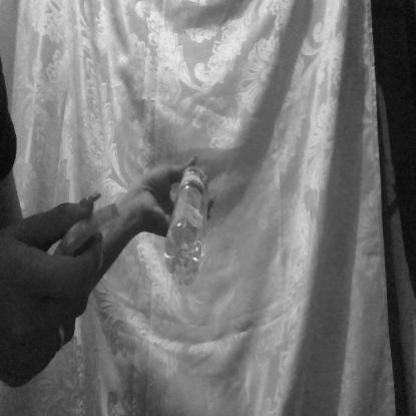Plastic Bottle: (146, 112, 254, 330)
